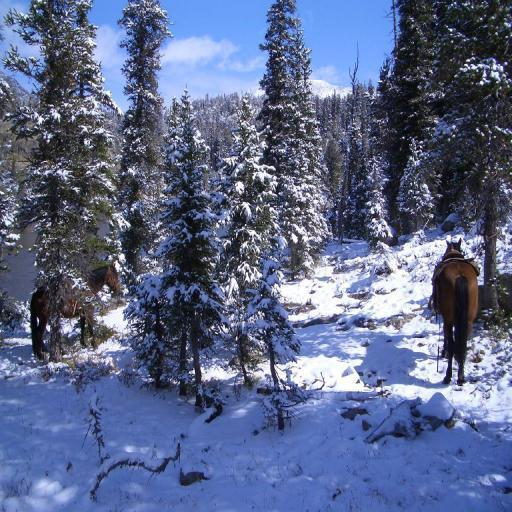horse: (29, 260, 121, 361), (429, 234, 479, 386)
